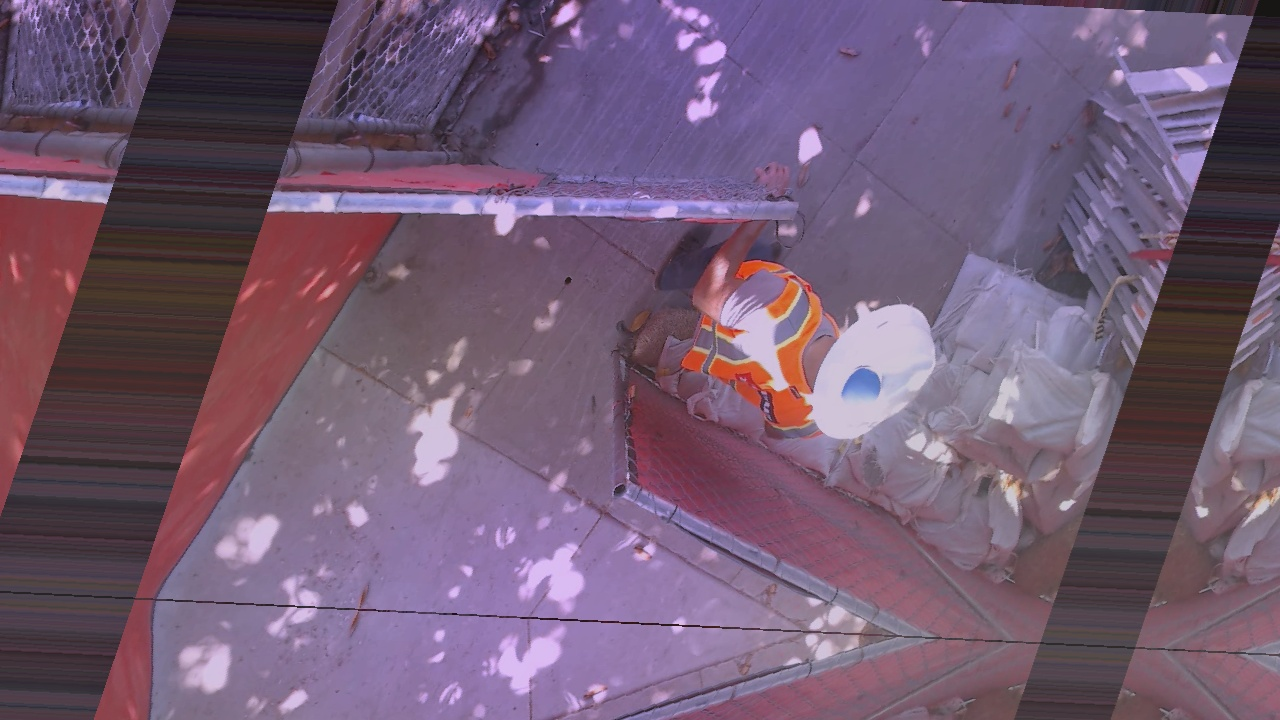person: (330, 283, 586, 612)
safetyvest: (340, 316, 540, 604)
